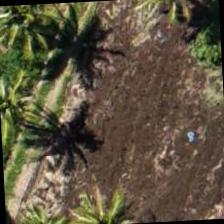Kelapa_Sawit: (0, 59, 52, 152), (0, 2, 66, 58)
